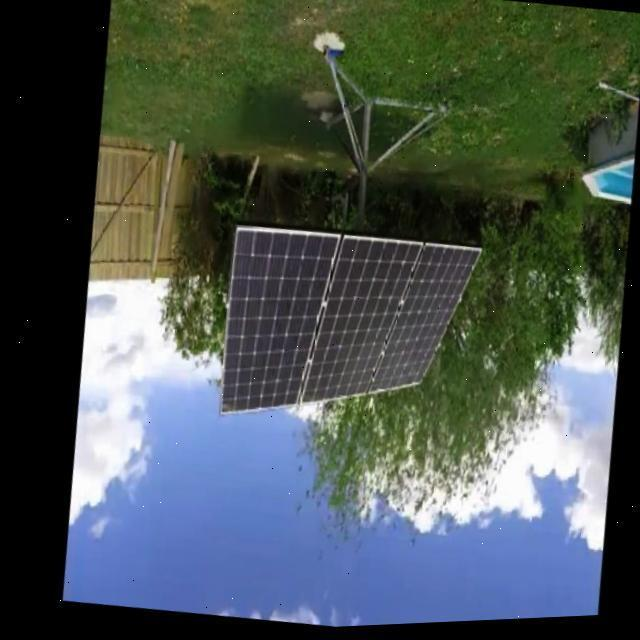Normal Solar Panel: (206, 222, 346, 428), (288, 230, 426, 419), (356, 238, 484, 410)
